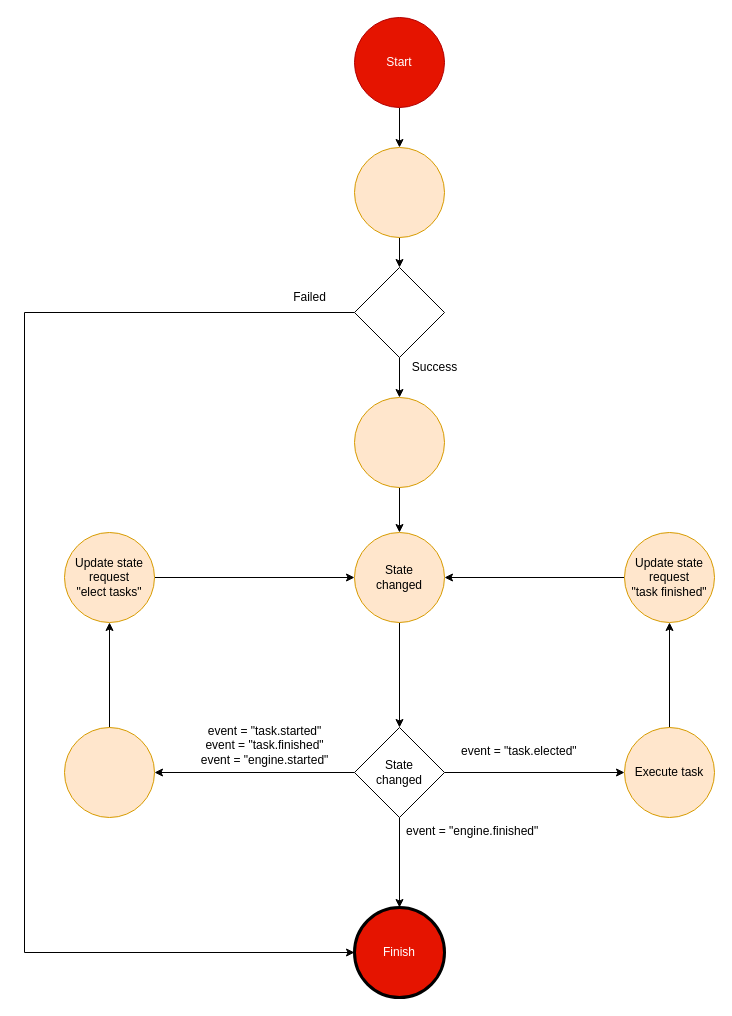
The diagram is 732 pixels wide and 1016 high, and some of its shapes have lost their labels. Here are the shapes that lost their labels. From the top down, the box of each, then its label:
(354, 146, 444, 238): Start services
(354, 396, 444, 488): Update state request engine "in-progress"
(64, 726, 154, 818): Find next tasks candidates
